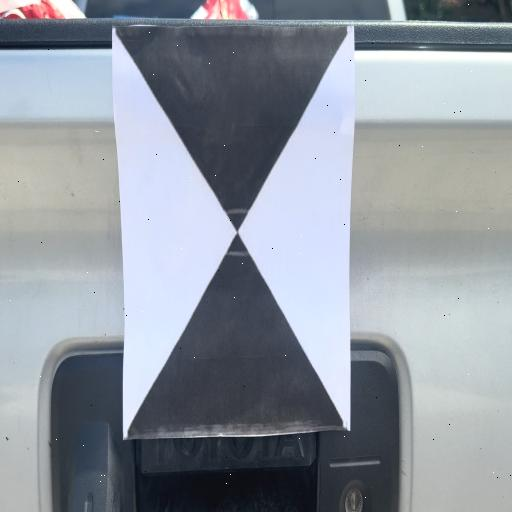target: (112, 26, 354, 440)
